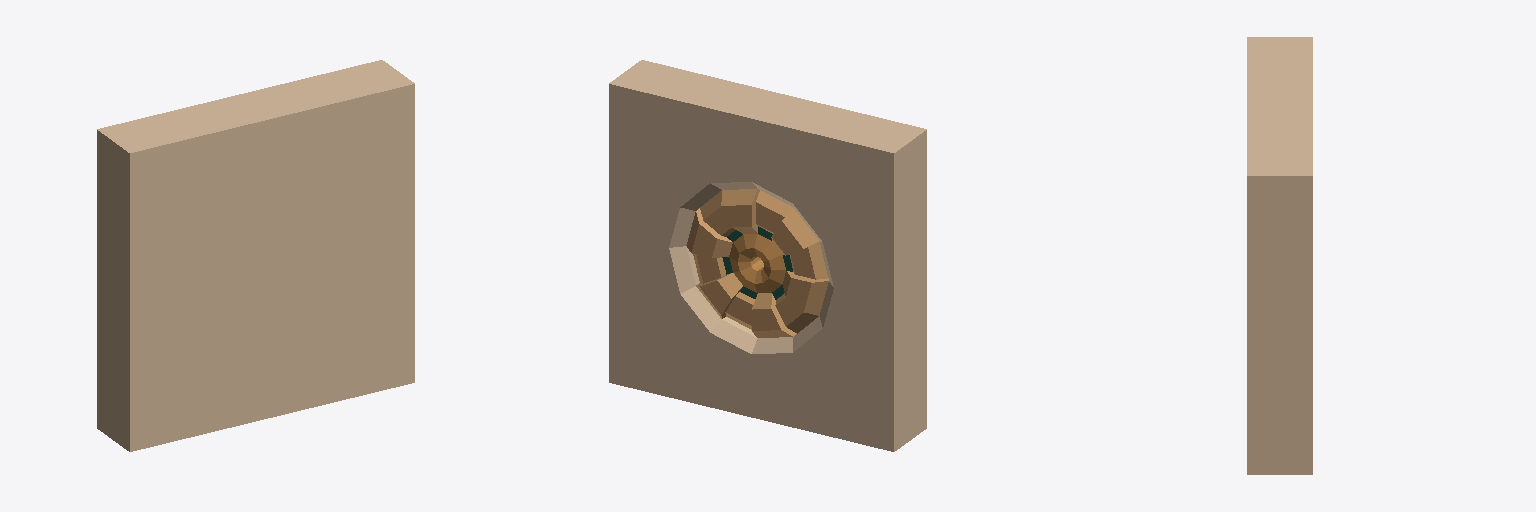
Rendered from Puzzle_Wall_Conduit_Emitter_Unconnected.obj.
The picture shows the model from 3 angles: view 1: azimuth 30°, elevation 25°; view 2: azimuth 150°, elevation 25°; view 3: azimuth 270°, elevation 25°; orthographic projection.
Visible parts, largest first — view 1: object1; view 2: object1, object3, object2; view 3: object1.
Boxes of the visible parts, box(x1,y1,x2,y2) form: object1: box(97, 60, 414, 451); object1: box(609, 60, 926, 451); object3: box(686, 189, 828, 337); object2: box(722, 226, 792, 299); object1: box(1247, 37, 1312, 474).
Bounding box in the file's own units: 1 × 1 × 0.2.